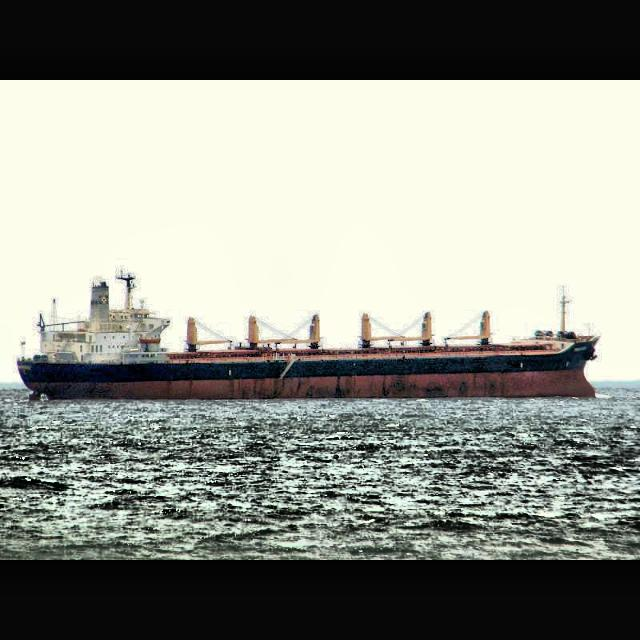bulk_carrier: (16, 266, 602, 402)
